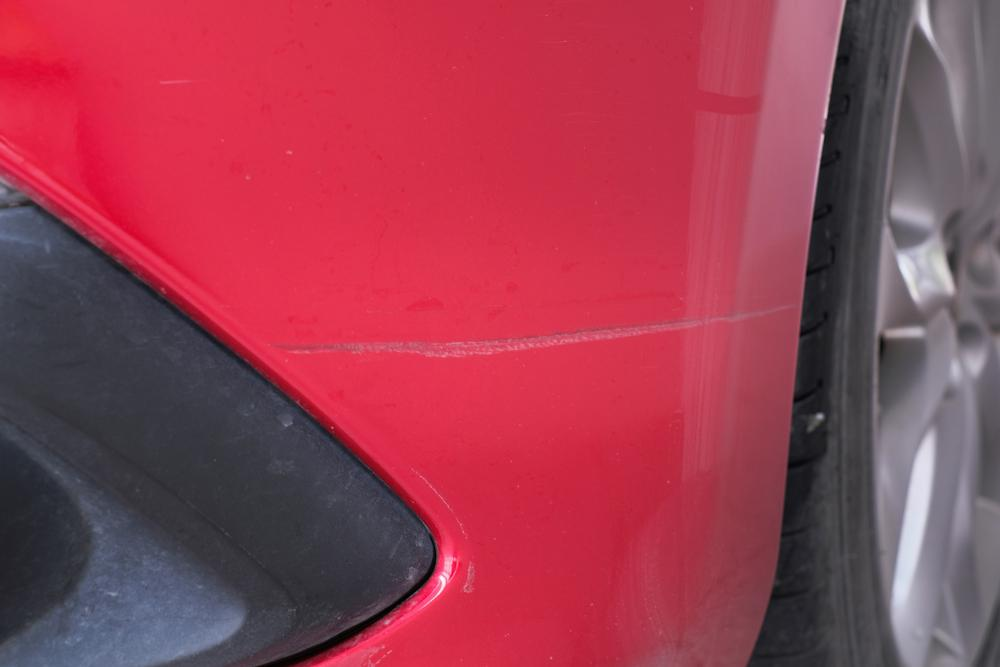scratch: (272, 298, 800, 360)
